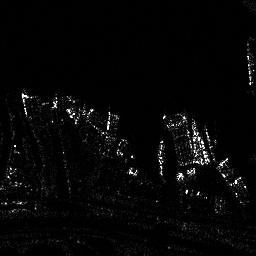ship: (216, 154, 250, 204)
